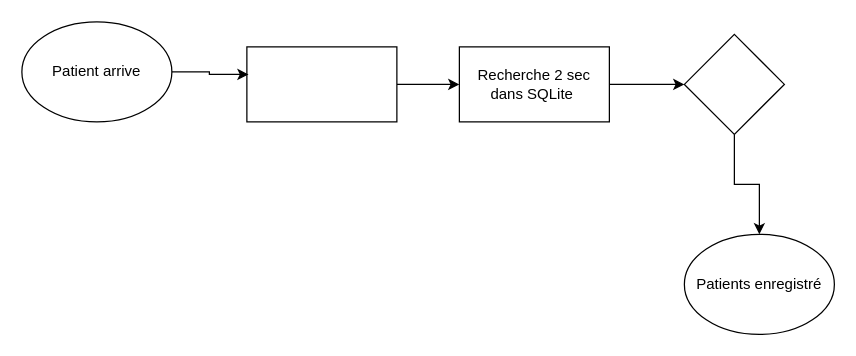
The diagram is 856 pixels wide and 356 high, and some of its shapes have lost their labels. Each missing label, with the box of its shape:
Agent tape le nom: (246, 46, 397, 122)
Patient trouvé: (683, 33, 784, 134)
